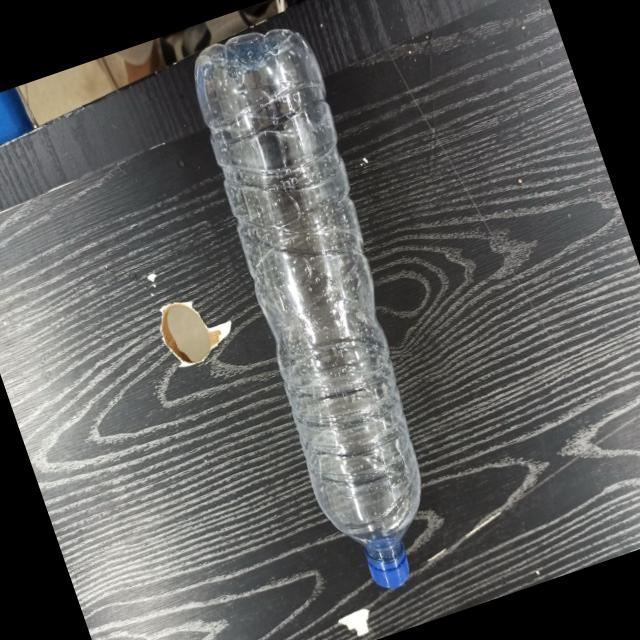BotolPlastik: (165, 13, 489, 604)
